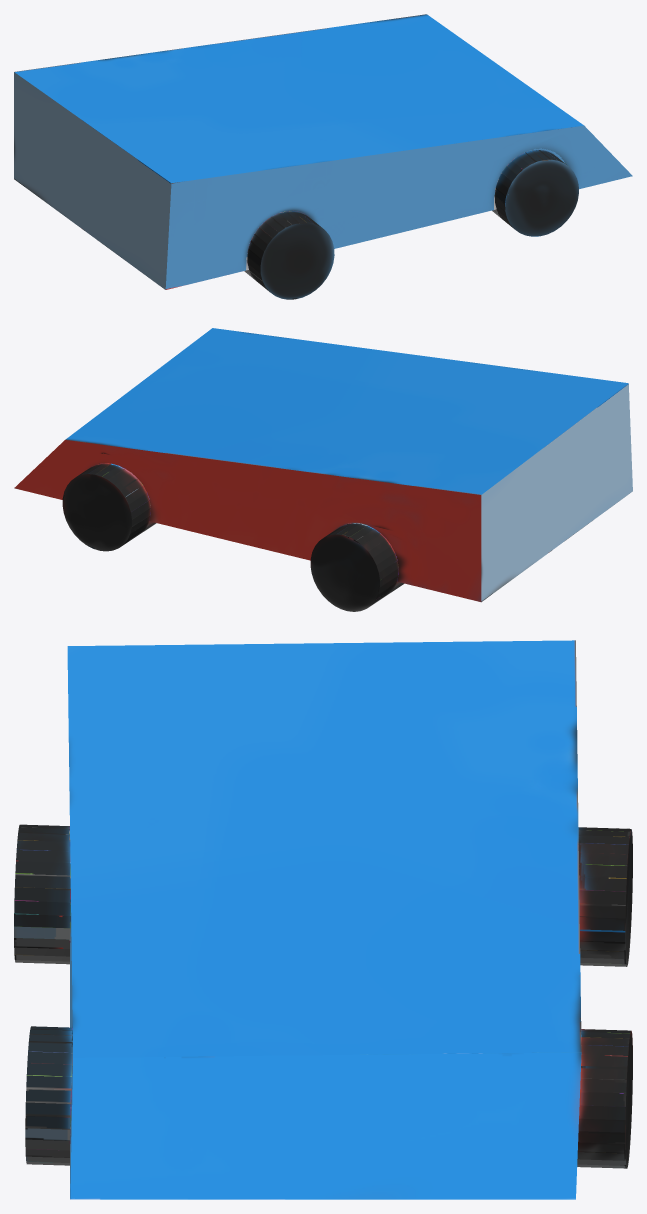
Rendered from car.fbx.
3 renders of one model, top to bottom at view 1: azimuth 30°, elevation 25°; view 2: azimuth 150°, elevation 25°; view 3: azimuth 270°, elevation 25°, orthographic. The views are drawn at different scales.
Visible parts, largest first — view 1: Cube; view 2: Cube; view 3: Cube.
Part boxes in pixels (left/top/right/bottom): Cube: left=14, top=14, right=632, bottom=299; Cube: left=14, top=328, right=632, bottom=611; Cube: left=14, top=640, right=632, bottom=1199.
Size of the model in its own units: 3.56 by 0.9704 by 2.45.
1 material, 1 textured.
